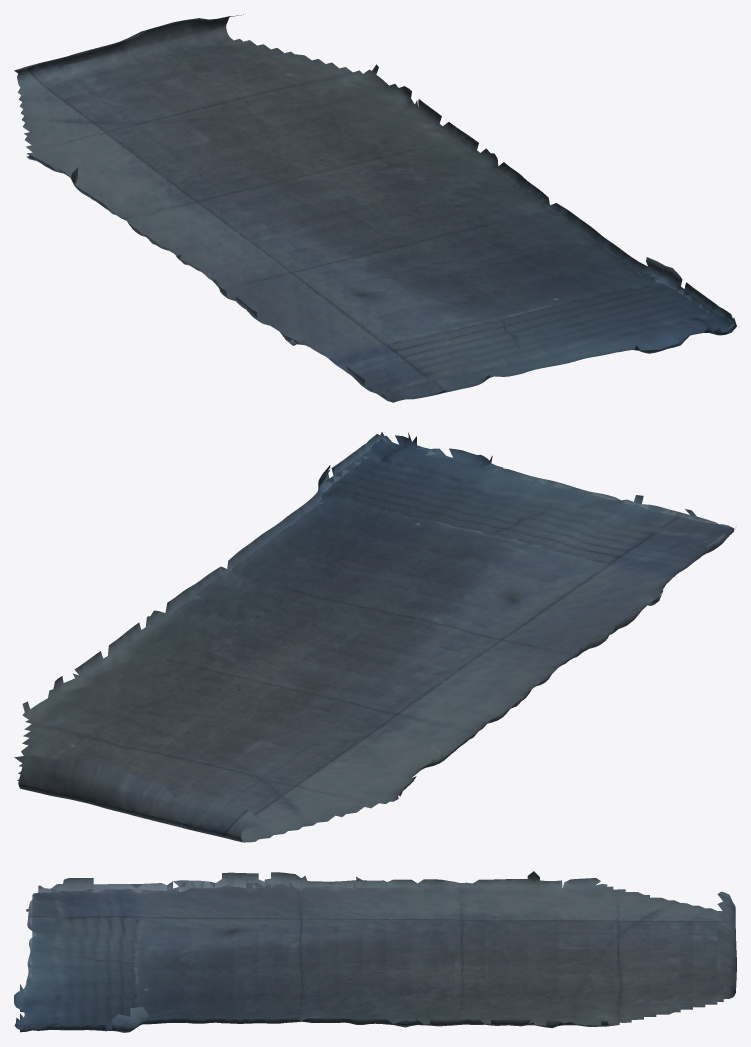
The model's file is Outside6.obj.
3 renders of one model, top to bottom at view 1: azimuth 30°, elevation 25°; view 2: azimuth 150°, elevation 25°; view 3: azimuth 270°, elevation 25°, orthographic. The views are drawn at different scales.
Bounding box in the file's own units: 4.3 × 0.4483 × 8.89.
Materials: 1 (1 with a texture image).
